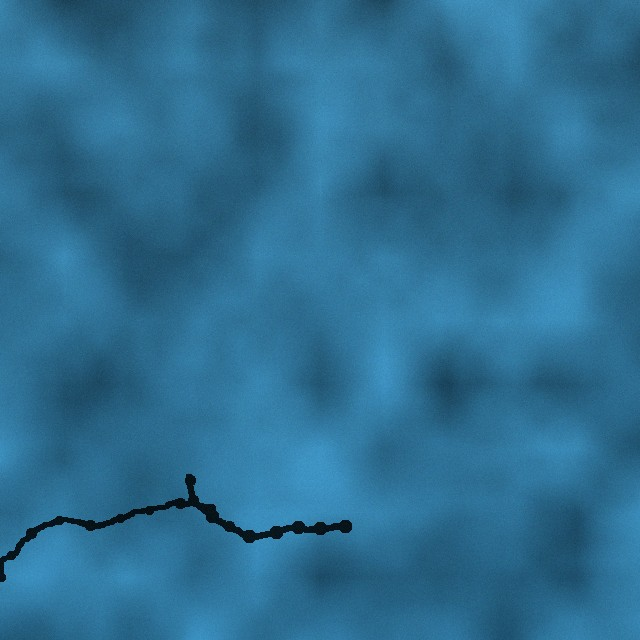crack: (0, 496, 216, 583), (183, 469, 351, 543)
